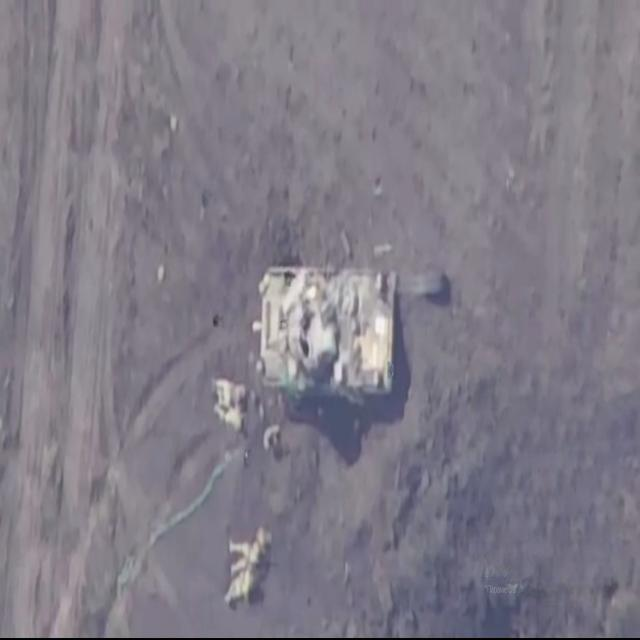AIFV: (256, 265, 398, 401)
